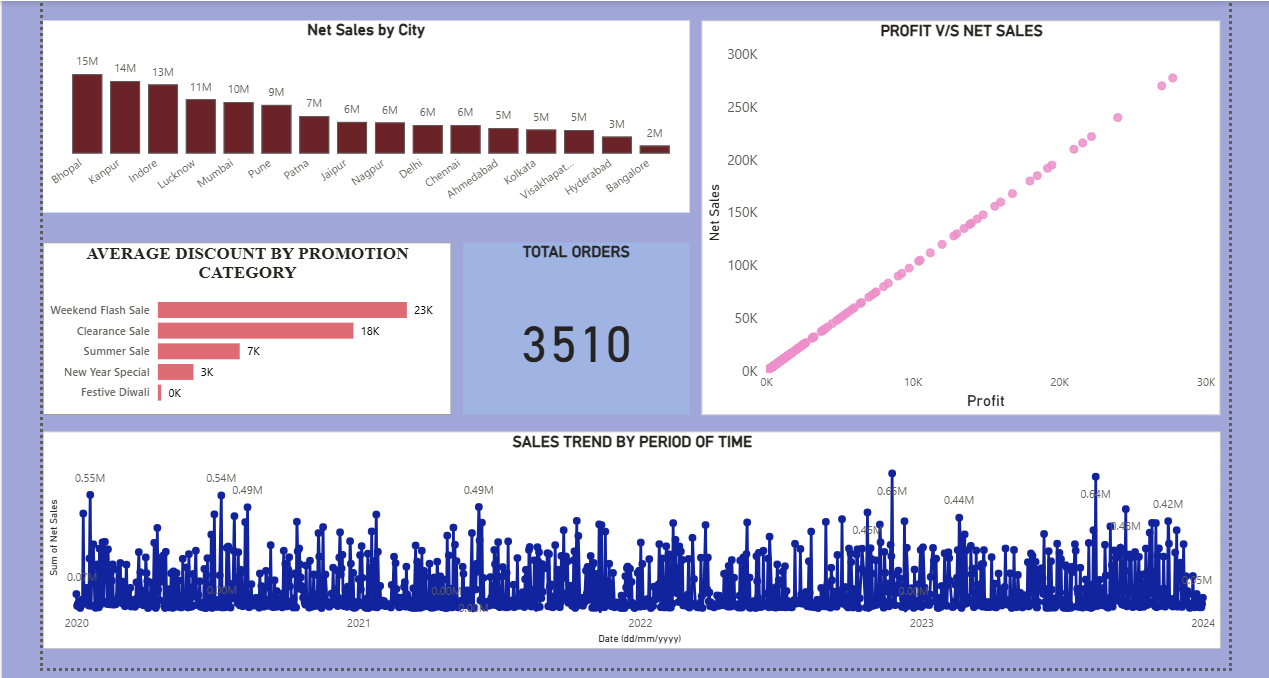

This screenshot's page, from the dashboard's own definition file:
{"tool":"powerbi","page":{"name":"OVERVIEW","canvas":[1280,720],"ordinal":0},"visuals":[{"type":"lineChart","title":"SALES TREND BY PERIOD OF TIME","fields":{"Y":["Sum(FACT TABLE.Net Sales)"],"Category":["FACT TABLE.Date (dd/mm/yyyy).Variation.Date Hierarchy.Year"]},"box":[0,464.7,1271.1,234.8],"z":0},{"type":"scatterChart","title":"PROFIT V/S NET SALES","fields":{"X":["FACT TABLE.Profit"],"Y":["FACT TABLE.Net Sales"]},"box":[710.8,21,560.3,425.9],"z":1000},{"type":"barChart","title":"AVERAGE DISCOUNT BY PROMOTION CATEGORY","fields":{"Category":["Dim Promotion.Promotion Name"],"Y":["Avg(FACT TABLE.Discount Amount)"]},"box":[0,260.7,440.4,186.2],"z":2000},{"type":"clusteredColumnChart","title":"Net Sales by City","fields":{"Category":["Dim Customers.City"],"Y":["Sum(FACT TABLE.Net Sales)"]},"box":[0,21,697.9,207.3],"z":3000},{"type":"card","title":"TOTAL ORDERS","fields":{"Values":["Count(FACT TABLE.Order ID)"]},"box":[453.4,260.7,244.5,186.2],"z":4000}]}

Visuals, with their boxes on the page's 1280x720 design canvas (x1, y1, x2, y2). These are canvas units, not pixel positions in the 1269x678 screenshot, which may show the page scaled, cropped or inside an application window:
"SALES TREND BY PERIOD OF TIME" lineChart: [left=0, top=465, right=1271, bottom=700]
"PROFIT V/S NET SALES" scatterChart: [left=711, top=21, right=1271, bottom=447]
"AVERAGE DISCOUNT BY PROMOTION CATEGORY" barChart: [left=0, top=261, right=440, bottom=447]
"Net Sales by City" clusteredColumnChart: [left=0, top=21, right=698, bottom=228]
"TOTAL ORDERS" card: [left=453, top=261, right=698, bottom=447]
